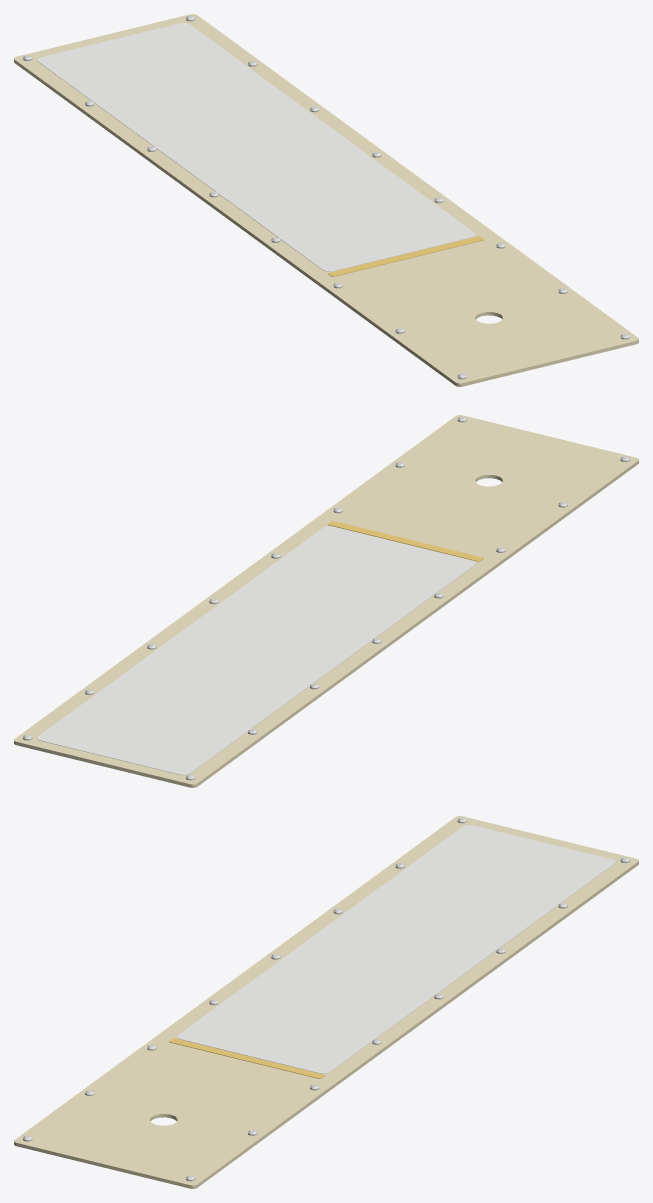
File: radiator_panel.glb
3 views of the same model, one above another, from view 1: azimuth 30°, elevation 25°; view 2: azimuth 150°, elevation 25°; view 3: azimuth 330°, elevation 25° (orthographic).
Visible parts, largest first — view 1: radiator_panel; view 2: radiator_panel; view 3: radiator_panel.
Part boxes in pixels (x1,y1,x2,y2): radiator_panel: (14,14,638,386); radiator_panel: (14,415,638,787); radiator_panel: (14,816,638,1188).
Bounding box in the file's own units: 0.083 × 0.00968 × 0.351.
